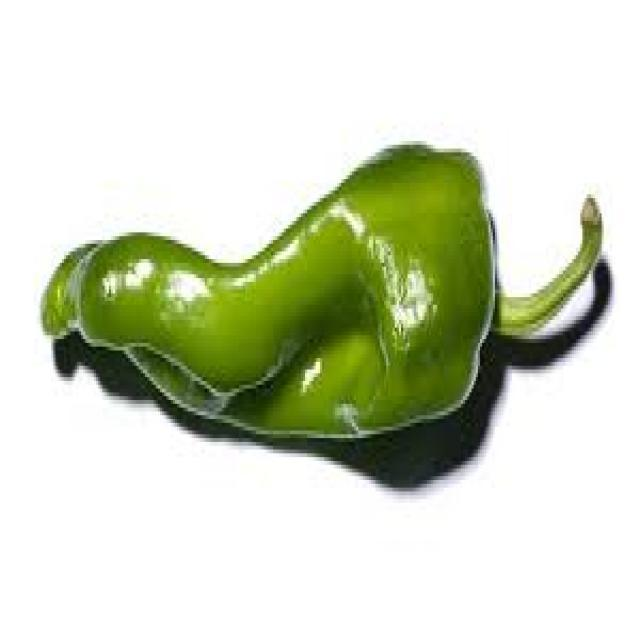Pepper: (39, 143, 603, 445)
